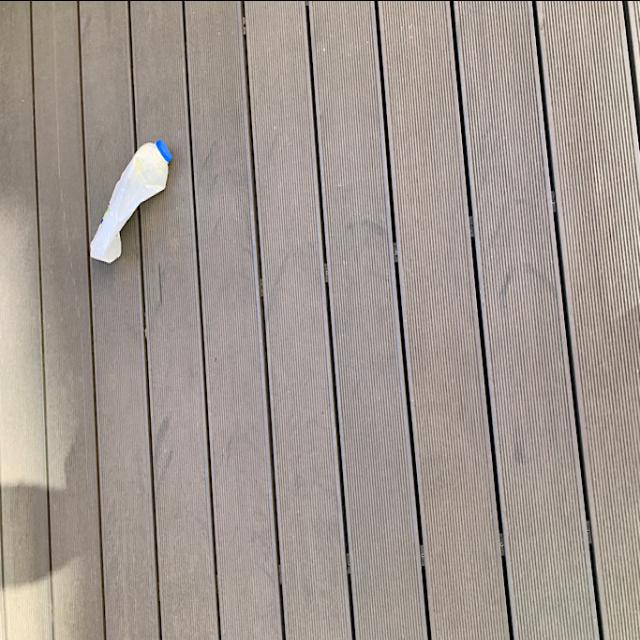litter: (86, 136, 174, 266)
